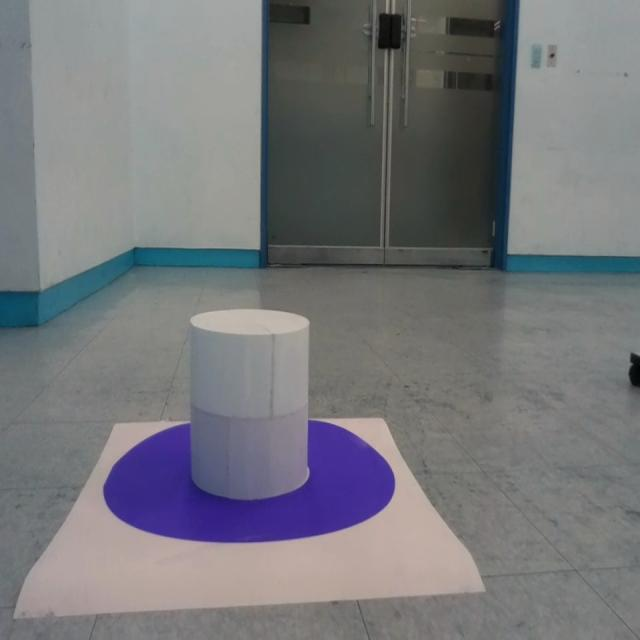cylinder: (189, 308, 313, 500)
